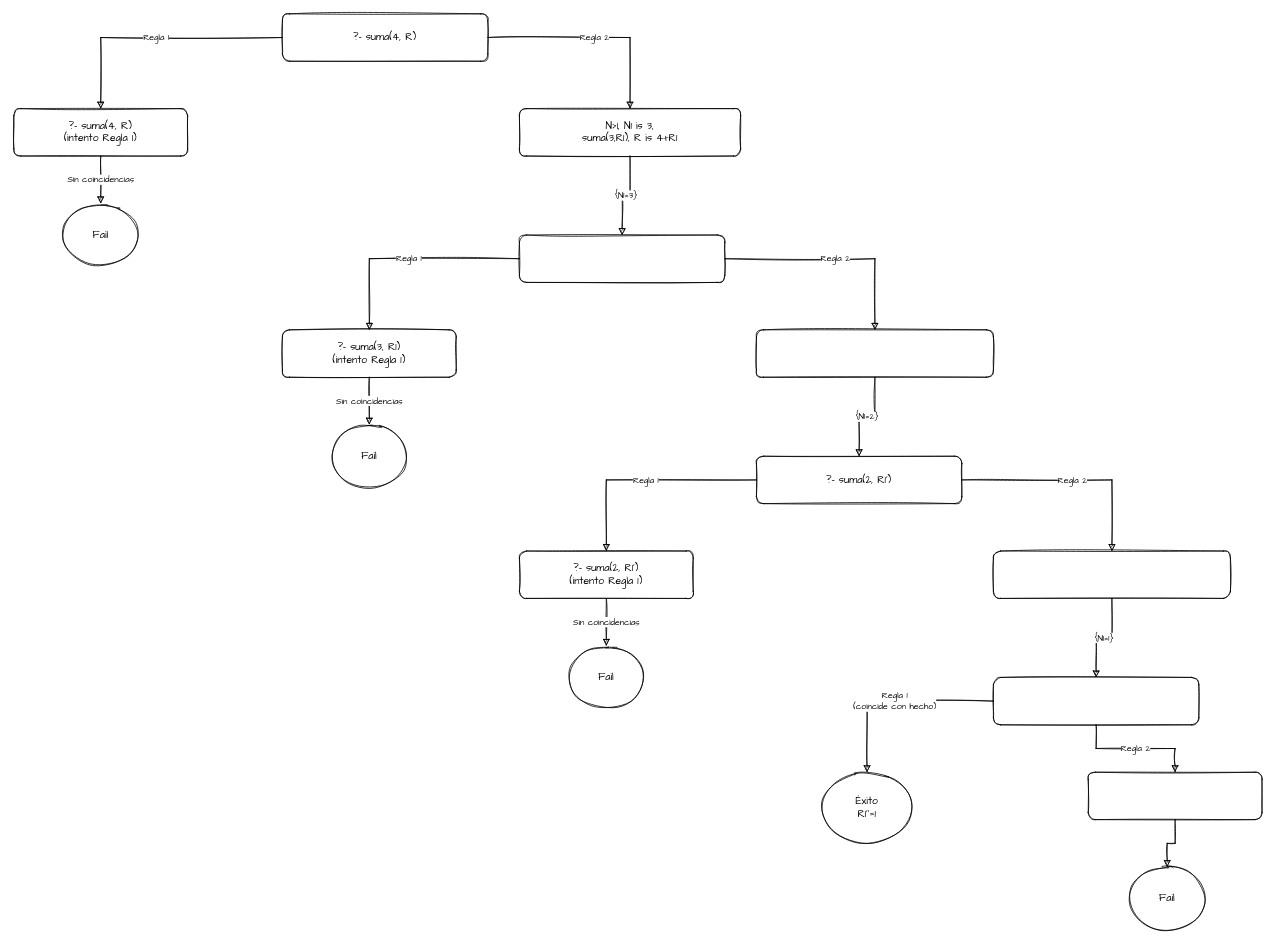
The diagram is 1276 pixels wide and 944 high, and some of its shapes have lost their labels. Each missing label, with the centre of its shape:
?- suma(1, R1''): the point at 1096,701
?- suma(3, R1): the point at 622,258
N>1 falso (1>1): the point at 1174,795
N>1, N1 is 1, suma(1,R1''), R1' is 2+R1'': the point at 1111,574
N>1, N1 is 2, suma(2,R1'), R1 is 3+R1': the point at 874,353
